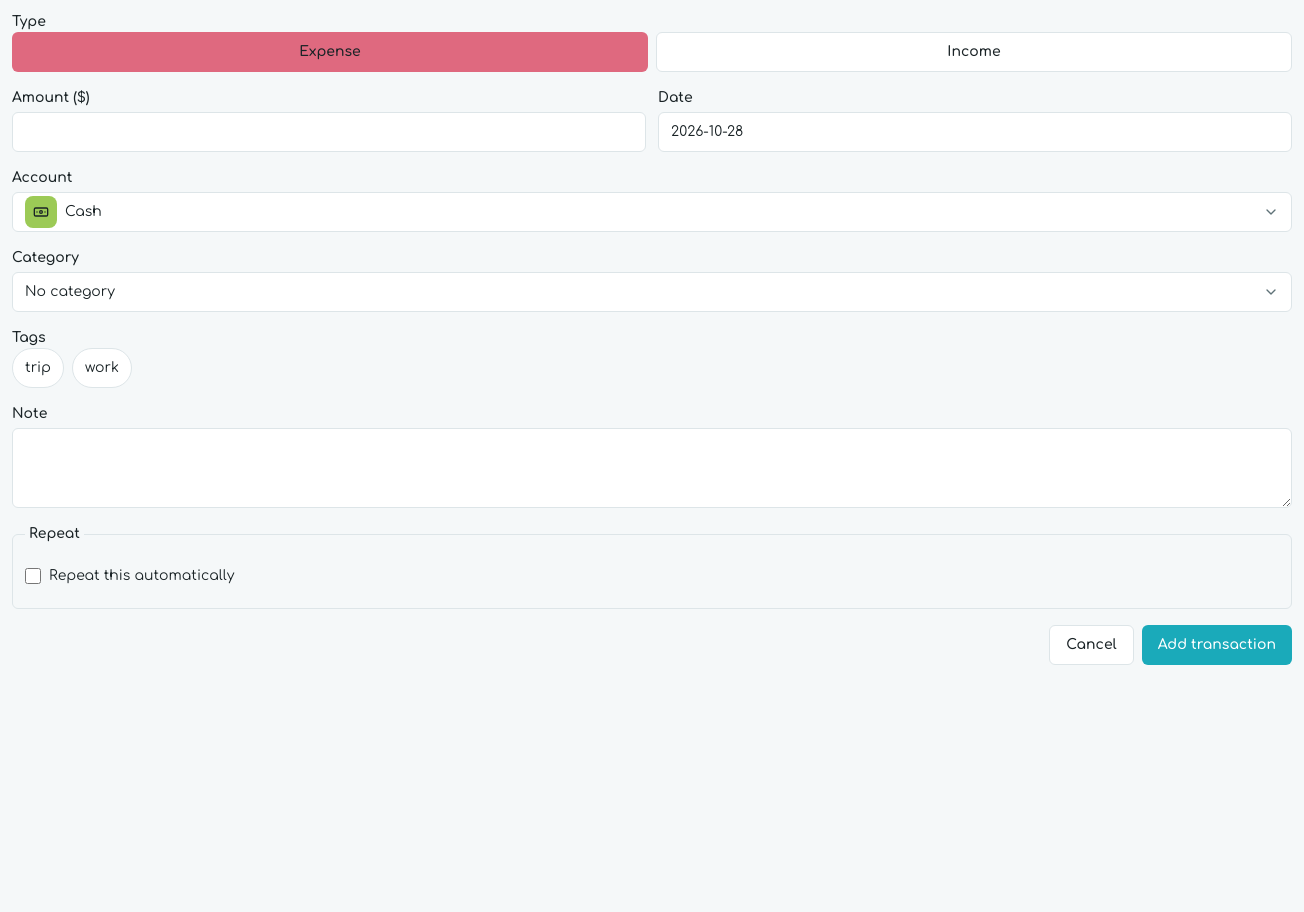
Scenario: TransactionForm › shows server errors on the matching field and keeps the form open
Type "5" into the field labelled "Amount ($)". click: coordinates (329, 132)
box: [12, 112, 646, 152]
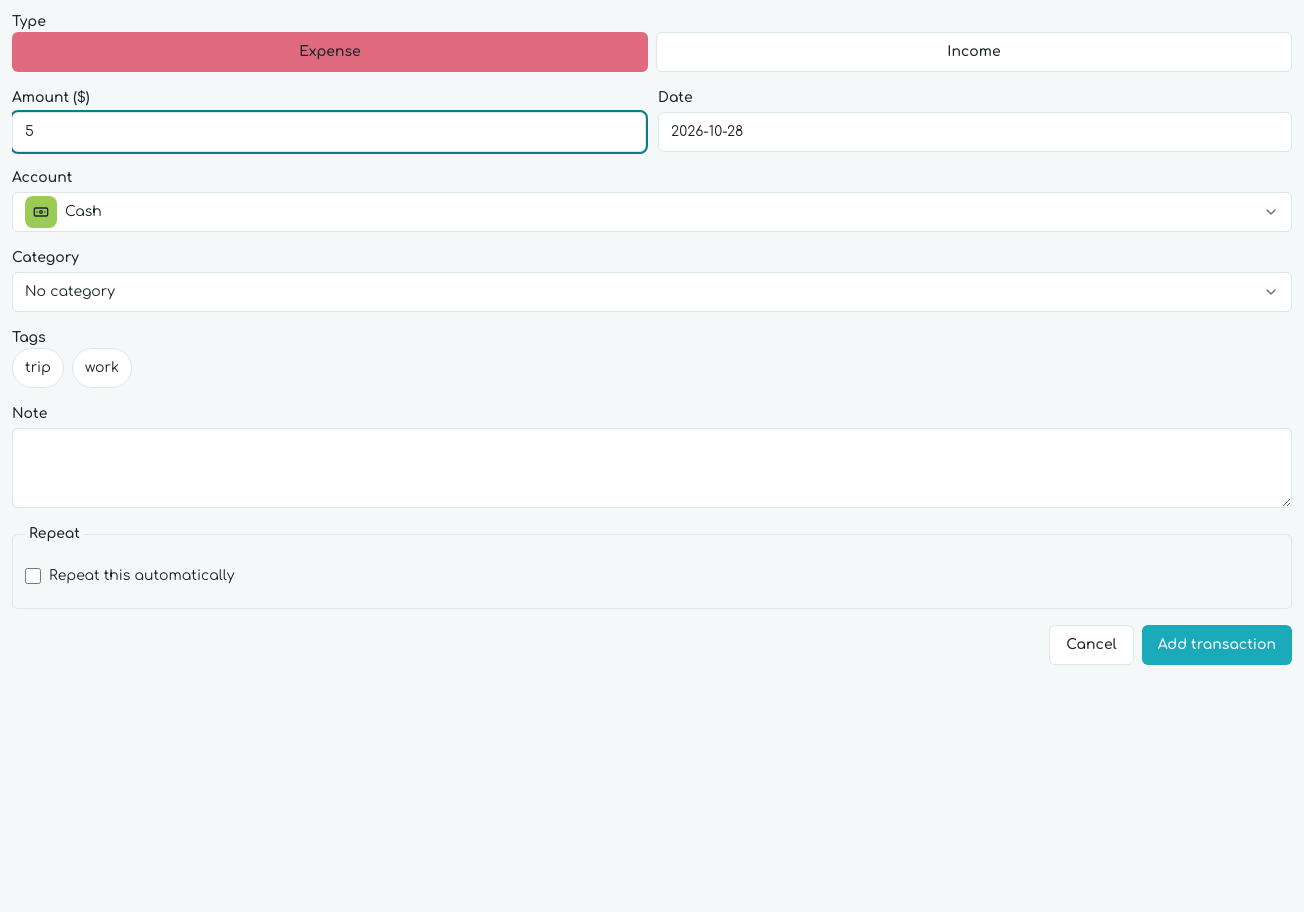
Click the button "Add transaction". click: coordinates (1217, 645)
box: [1142, 625, 1292, 665]
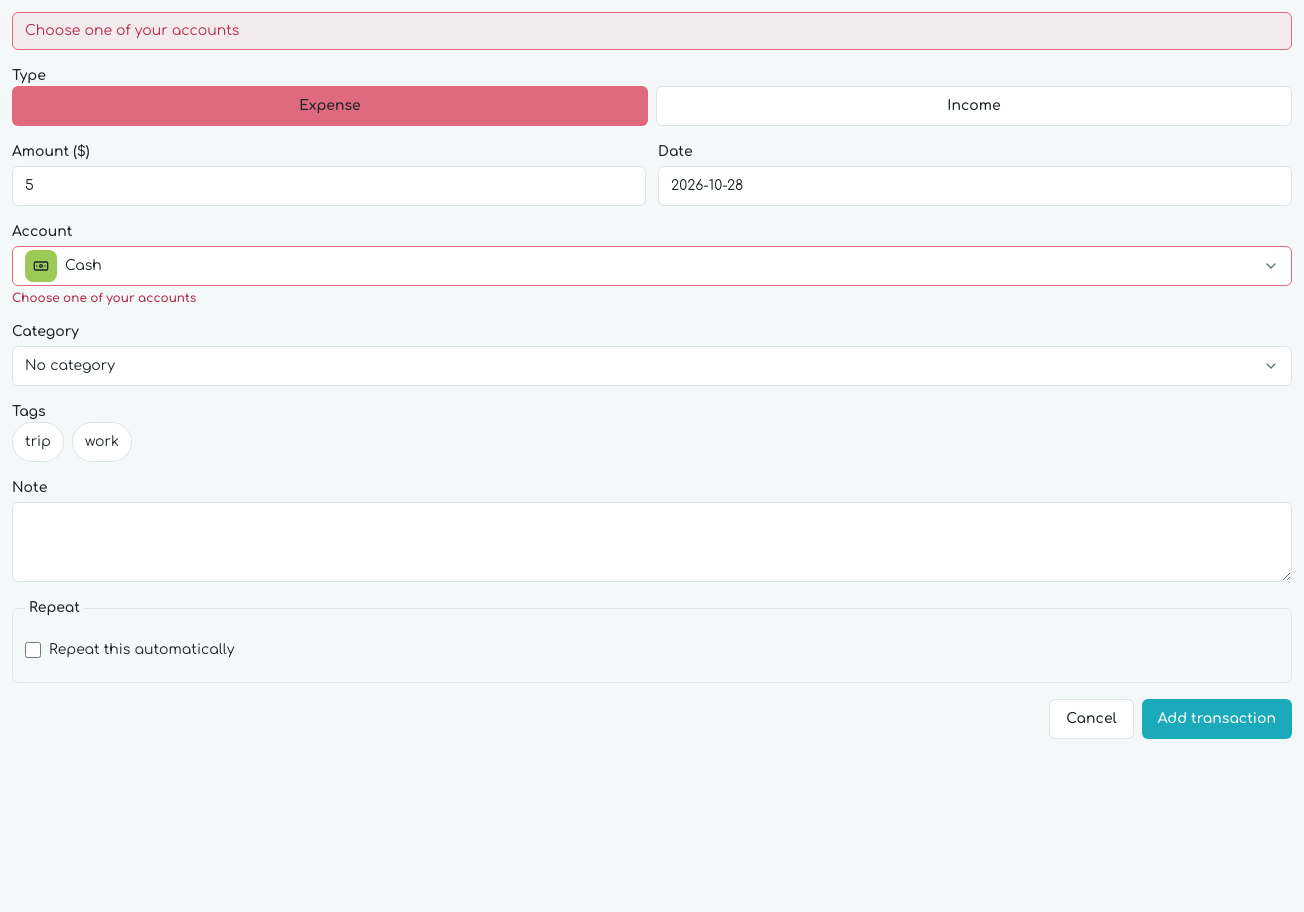
Expected: the 1st text "Choose one of your accounts" is shown, [12, 12, 1292, 50]
